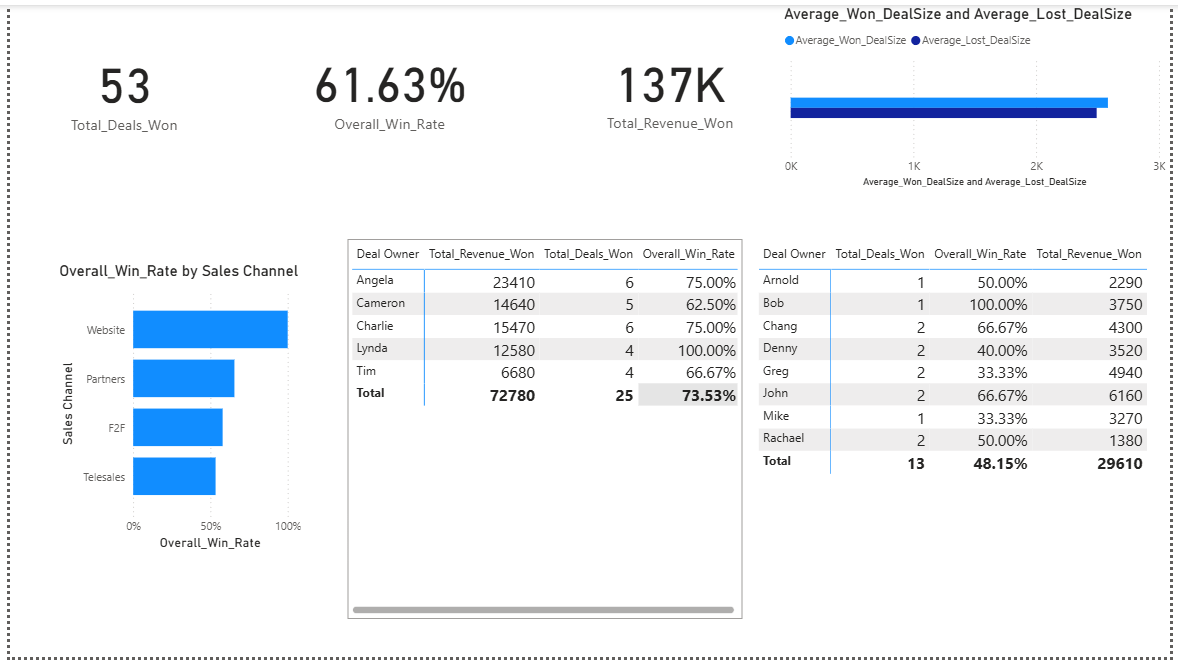

What the dashboard file says about the page in this screenshot:
{"tool":"powerbi","page":{"name":"Page 1","canvas":[1280,720],"ordinal":0},"visuals":[{"type":"card","fields":{"Values":["DAX_Measures.Total_Deals_Won"]},"box":[14.9,36.4,222,112.6],"z":0},{"type":"card","fields":{"Values":["DAX_Measures.Total_Revenue_Won"]},"box":[607.9,34.8,241.8,112.6],"z":1000},{"type":"card","fields":{"Values":["DAX_Measures.Overall_Win_Rate"]},"box":[309.8,21.5,218.7,140.8],"z":2000},{"type":"barChart","fields":{"Y":["DAX_Measures.Overall_Win_Rate"],"Category":["Sales_Data.Sales Channel"]},"box":[49.7,283.3,276.6,323],"z":3000},{"type":"pivotTable","fields":{"Rows":["Sales_Data.Deal Owner"],"Values":["DAX_Measures.Total_Revenue_Won","DAX_Measures.Total_Deals_Won","DAX_Measures.Overall_Win_Rate"]},"box":[372.7,258.4,435.7,419.1],"z":4000},{"type":"pivotTable","fields":{"Rows":["Sales_Data.Deal Owner"],"Values":["DAX_Measures.Total_Deals_Won","DAX_Measures.Overall_Win_Rate","DAX_Measures.Total_Revenue_Won"]},"box":[821.6,258.4,458.8,389.3],"z":5000},{"type":"clusteredBarChart","fields":{"Y":["DAX_Measures.Average_Won_DealSize","DAX_Measures.Average_Lost_DealSize"]},"box":[849.8,0,430.7,205.4],"z":6000}]}

Visuals, with their boxes in screenshot pixels (x1, y1, x2, y2), scaled from the page's 1280x720 canvas onto the 1178x660 screenshot:
card - DAX_Measures.Total_Deals_Won: {"left": 14, "top": 33, "right": 218, "bottom": 137}
card - DAX_Measures.Total_Revenue_Won: {"left": 559, "top": 32, "right": 782, "bottom": 135}
card - DAX_Measures.Overall_Win_Rate: {"left": 285, "top": 20, "right": 486, "bottom": 149}
barChart - DAX_Measures.Overall_Win_Rate x Sales_Data.Sales Channel: {"left": 46, "top": 260, "right": 300, "bottom": 556}
pivotTable - Sales_Data.Deal Owner x DAX_Measures.Total_Revenue_Won: {"left": 343, "top": 237, "right": 744, "bottom": 621}
pivotTable - Sales_Data.Deal Owner x DAX_Measures.Total_Deals_Won: {"left": 756, "top": 237, "right": 1177, "bottom": 594}
clusteredBarChart - DAX_Measures.Average_Won_DealSize x DAX_Measures.Average_Lost_DealSize: {"left": 782, "top": 0, "right": 1177, "bottom": 188}
